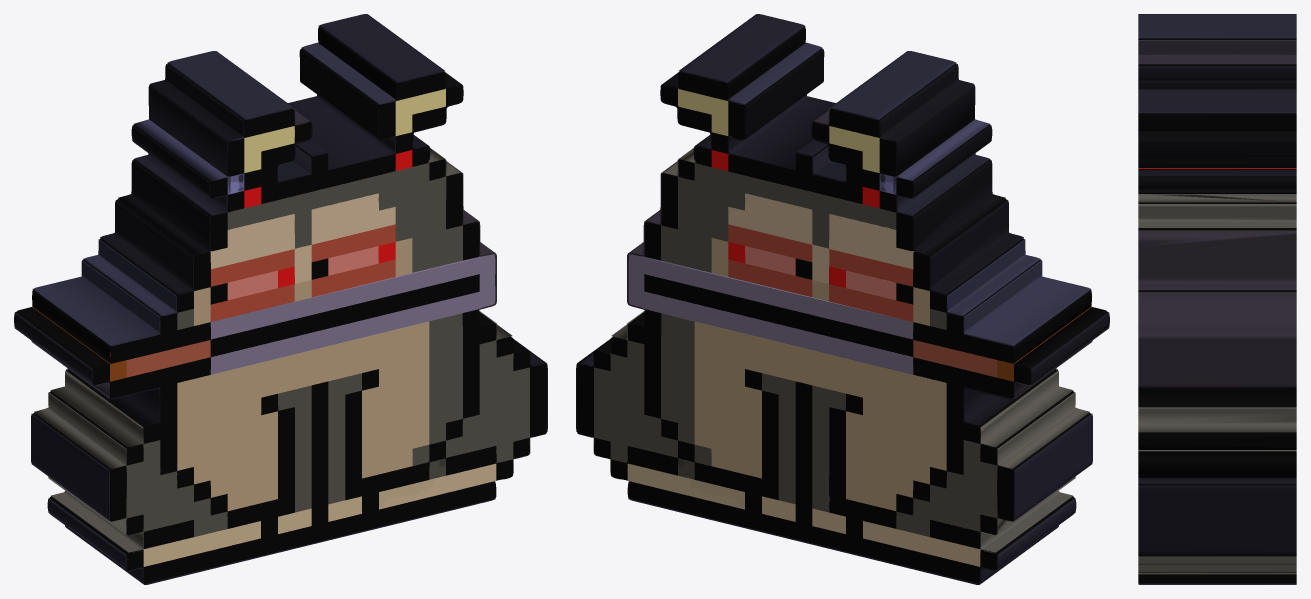
File: Toadz_4409.glb
3 renders of one model, left to right at view 1: azimuth 30°, elevation 25°; view 2: azimuth 150°, elevation 25°; view 3: azimuth 270°, elevation 25°, orthographic.
Parts seen in each view (by area): view 1: Curve; view 2: Curve; view 3: Curve.
Boxes of the visible parts, x1,y1,x2,y2 form: Curve: (14, 14, 547, 584); Curve: (576, 14, 1109, 584); Curve: (1138, 14, 1296, 584).
Size of the model in its own units: 3.38 by 3.13 by 1.
